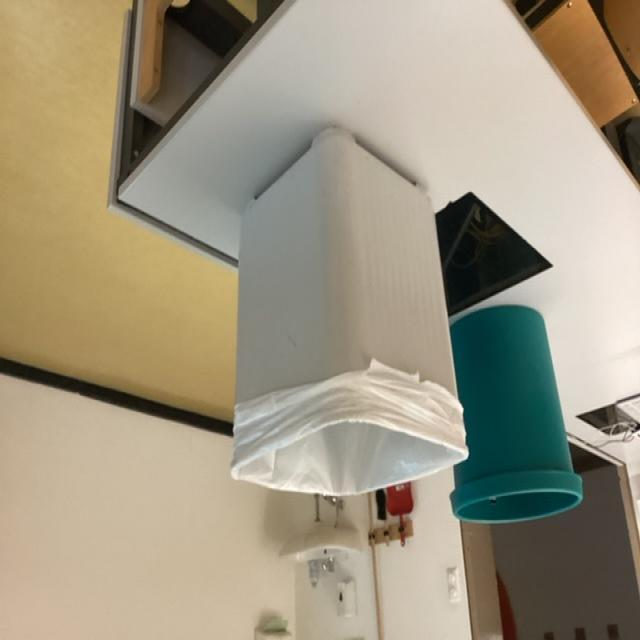garbage container: (191, 114, 473, 518), (429, 294, 620, 590)
